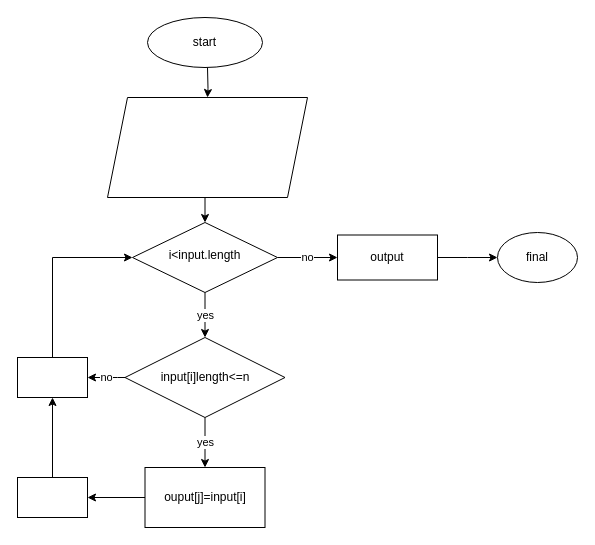
This 595x545 diagram has some shape labels left out. Each missing label, with the box of its shape:
i++: (16, 356, 88, 398)
j++: (16, 476, 88, 518)
string[] input, string[] output, int i=0, int j=0, int n=3: (106, 96, 308, 198)
